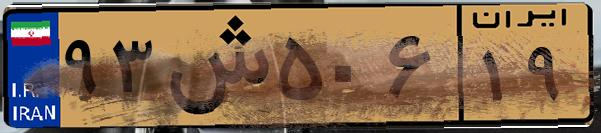0: (330, 28, 385, 110)
1: (475, 38, 525, 113)
3: (110, 28, 158, 98)
5: (270, 28, 330, 110)
6: (385, 28, 445, 110)
9: (57, 26, 110, 100), (525, 38, 570, 115)
ش: (158, 12, 270, 120)
